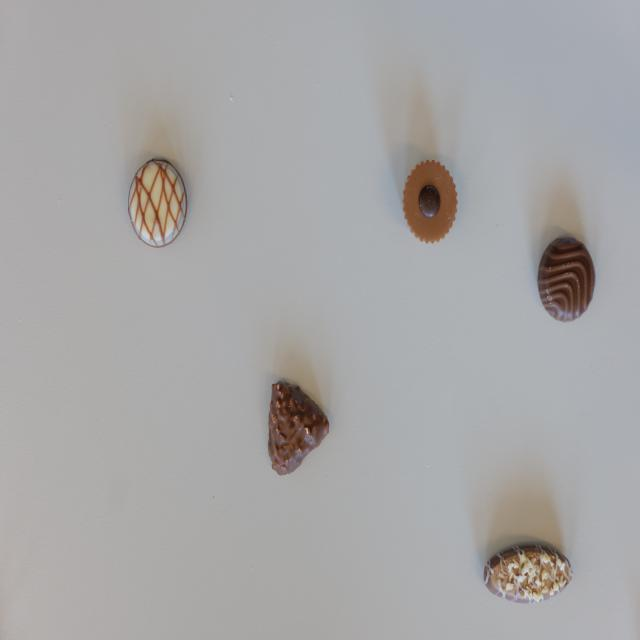Amandina: (484, 543, 574, 604)
Creme_brulee: (128, 156, 188, 250)
Noblesse: (404, 159, 457, 244)
Noir_authentique: (539, 235, 596, 324)
Triangolo: (268, 381, 329, 477)
